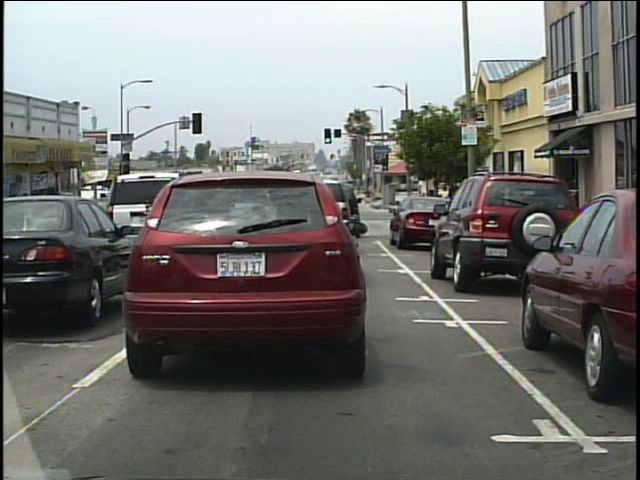person: (429, 189, 442, 224), (422, 191, 432, 224)
